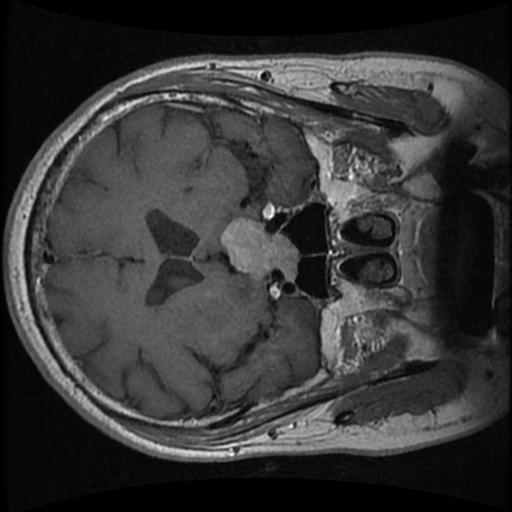pituitary tumour: (222, 220, 296, 277)
